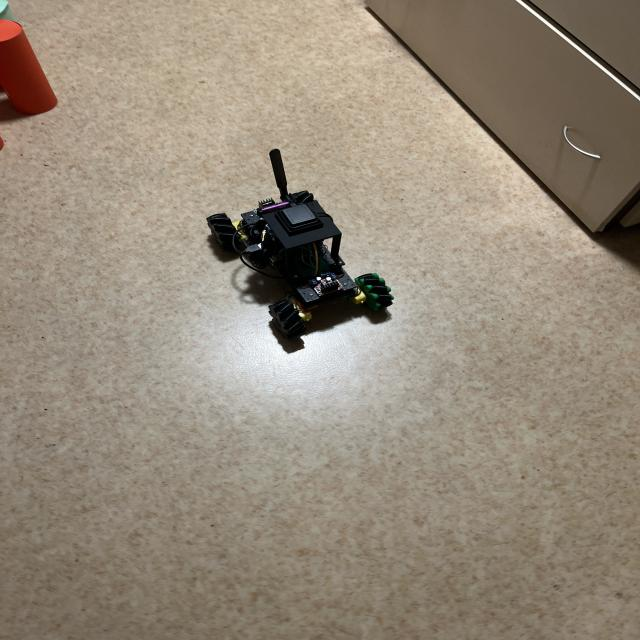robot: (207, 149, 394, 338)
